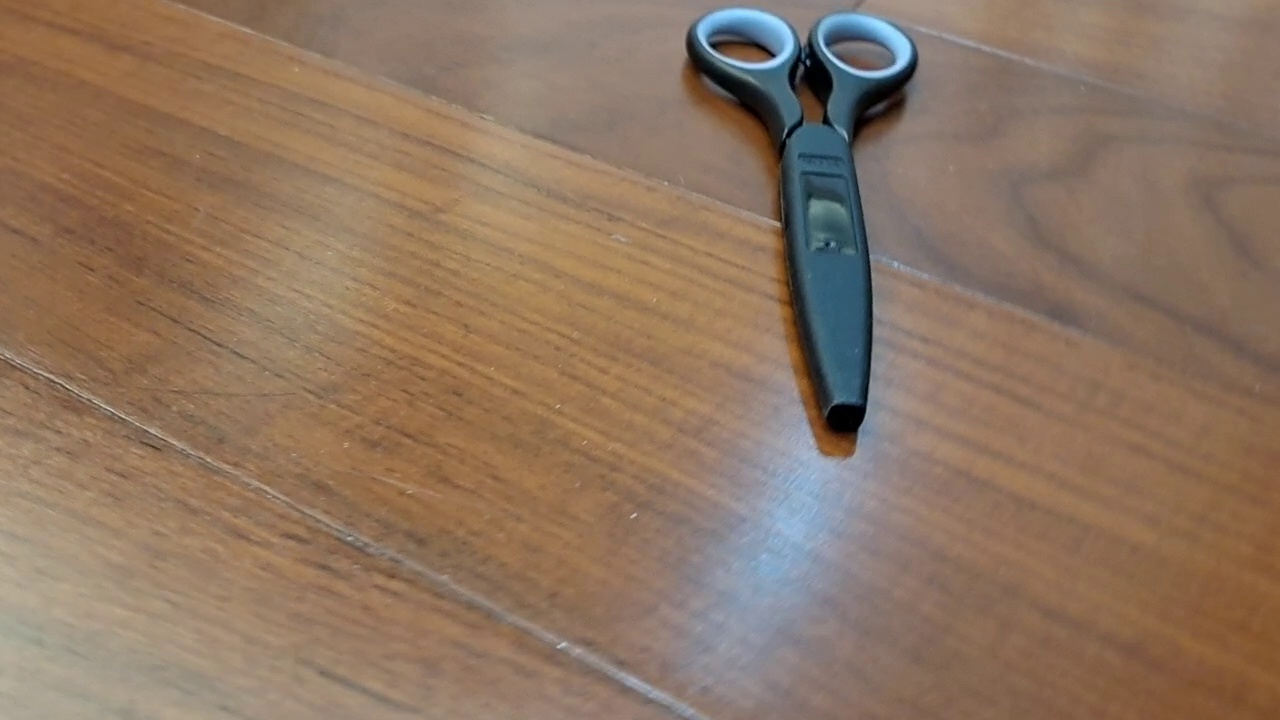scissors: (685, 5, 919, 435)
